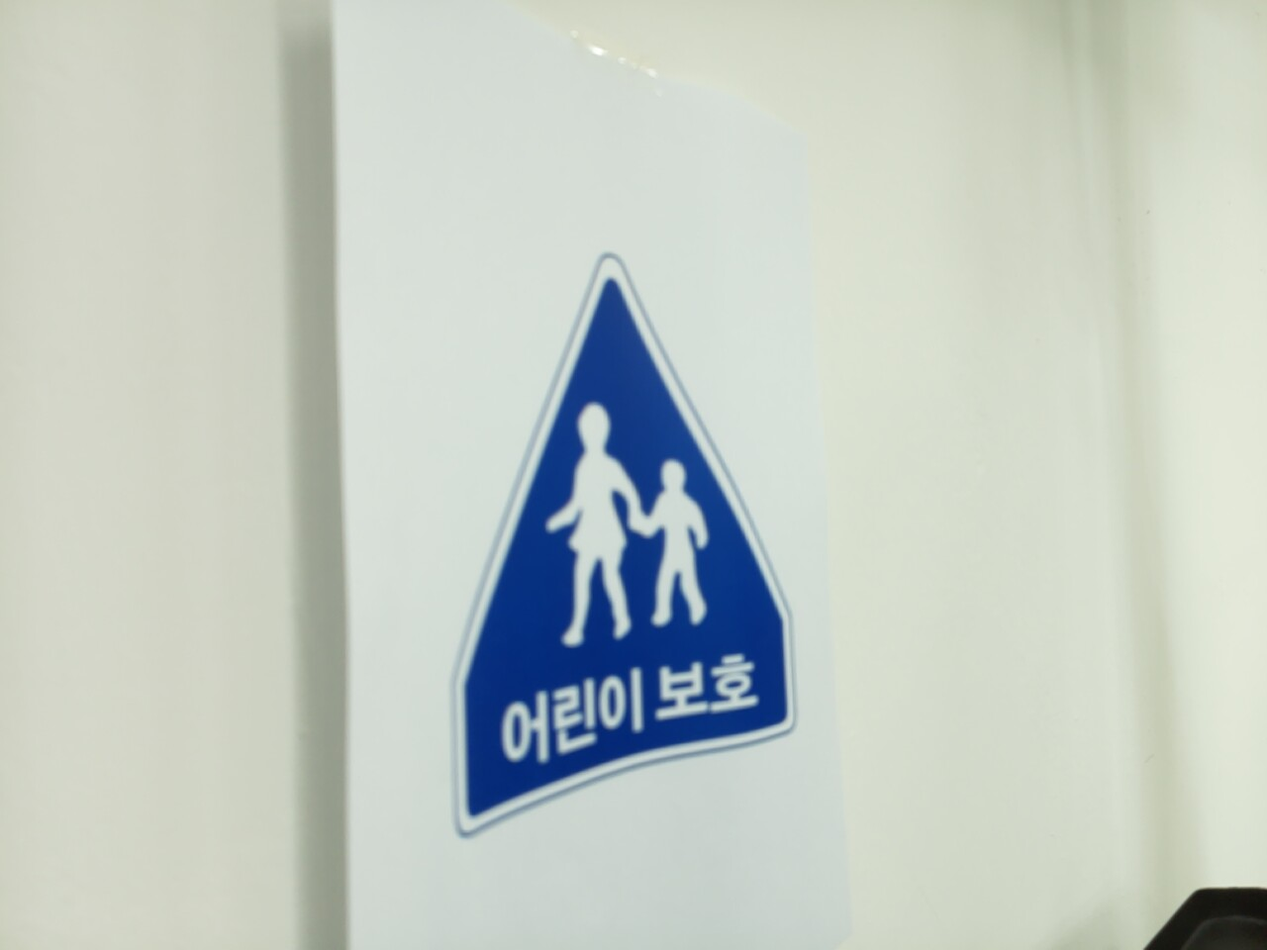school_zone: (454, 264, 798, 831)
